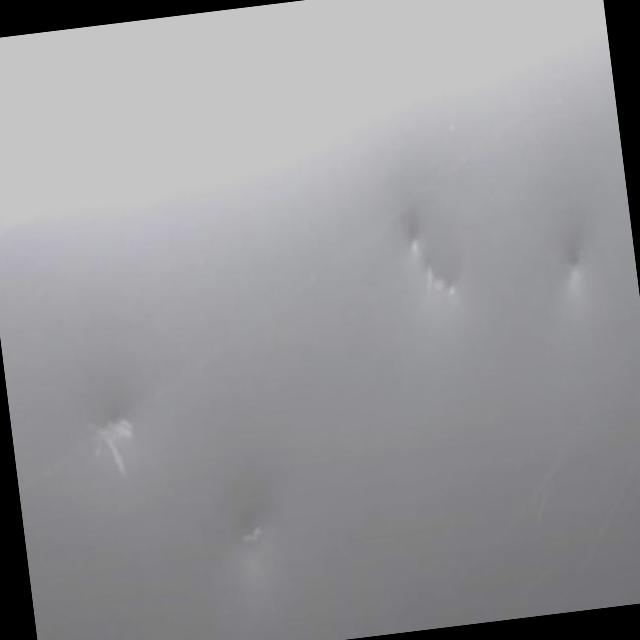dent: (394, 227, 464, 318), (81, 394, 149, 476), (546, 237, 604, 304), (234, 490, 270, 560)
